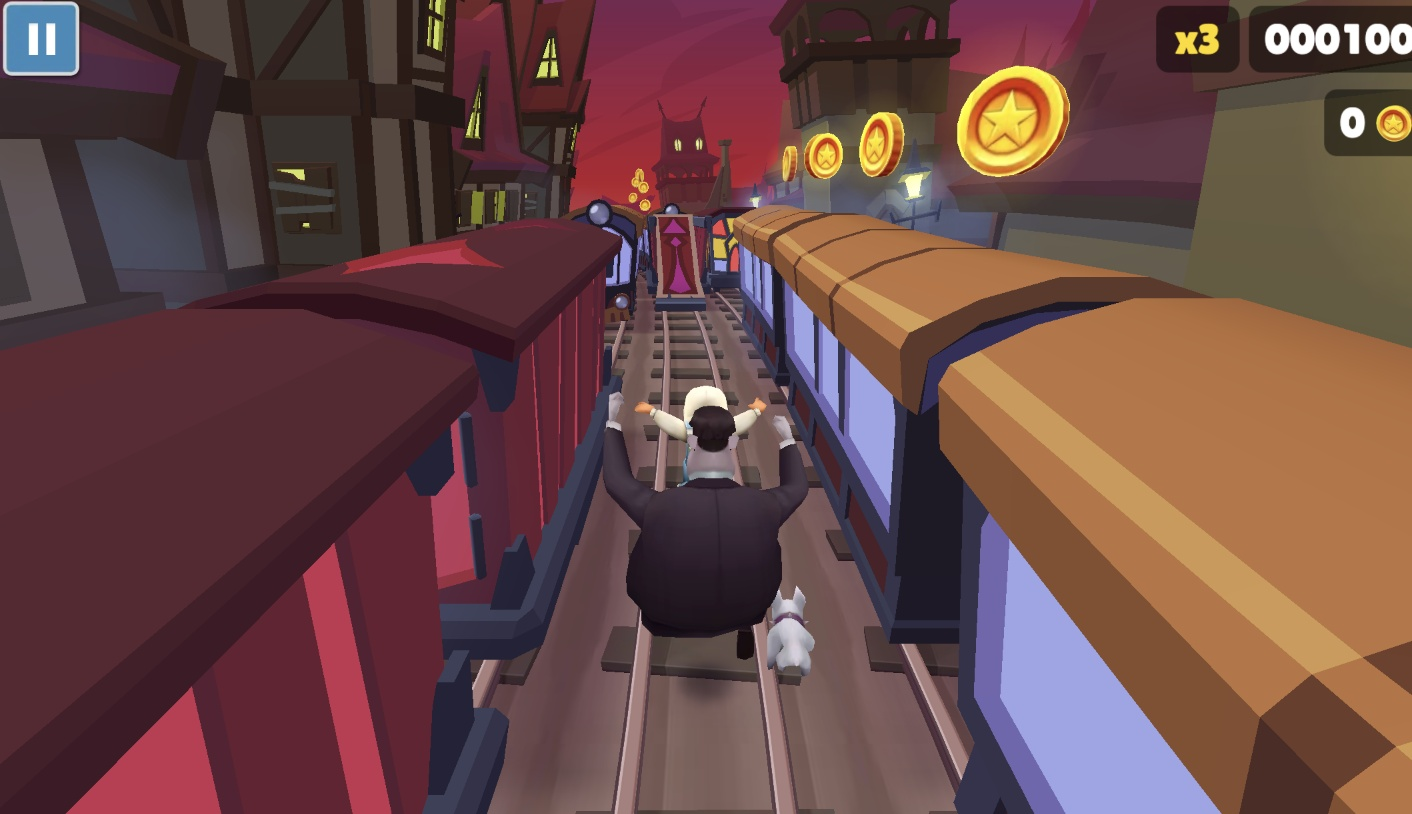train: (732, 206, 1412, 814), (0, 218, 619, 814), (568, 199, 649, 336), (644, 203, 710, 313), (703, 211, 758, 296)
